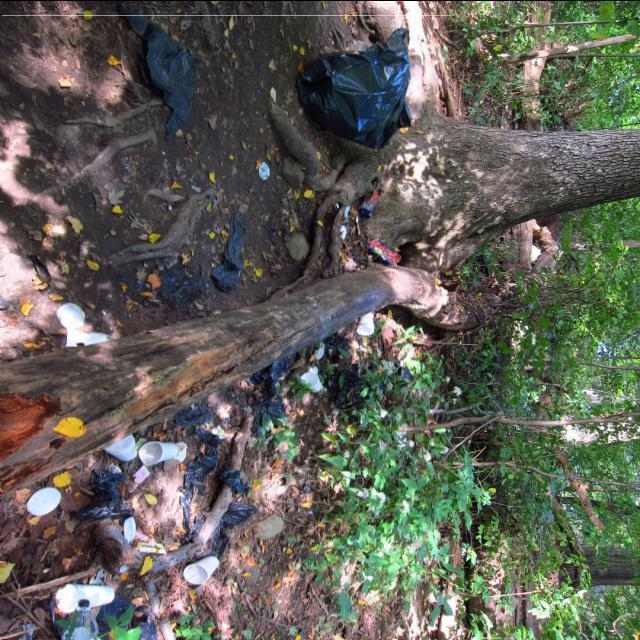Trashbag: (288, 23, 430, 155)
